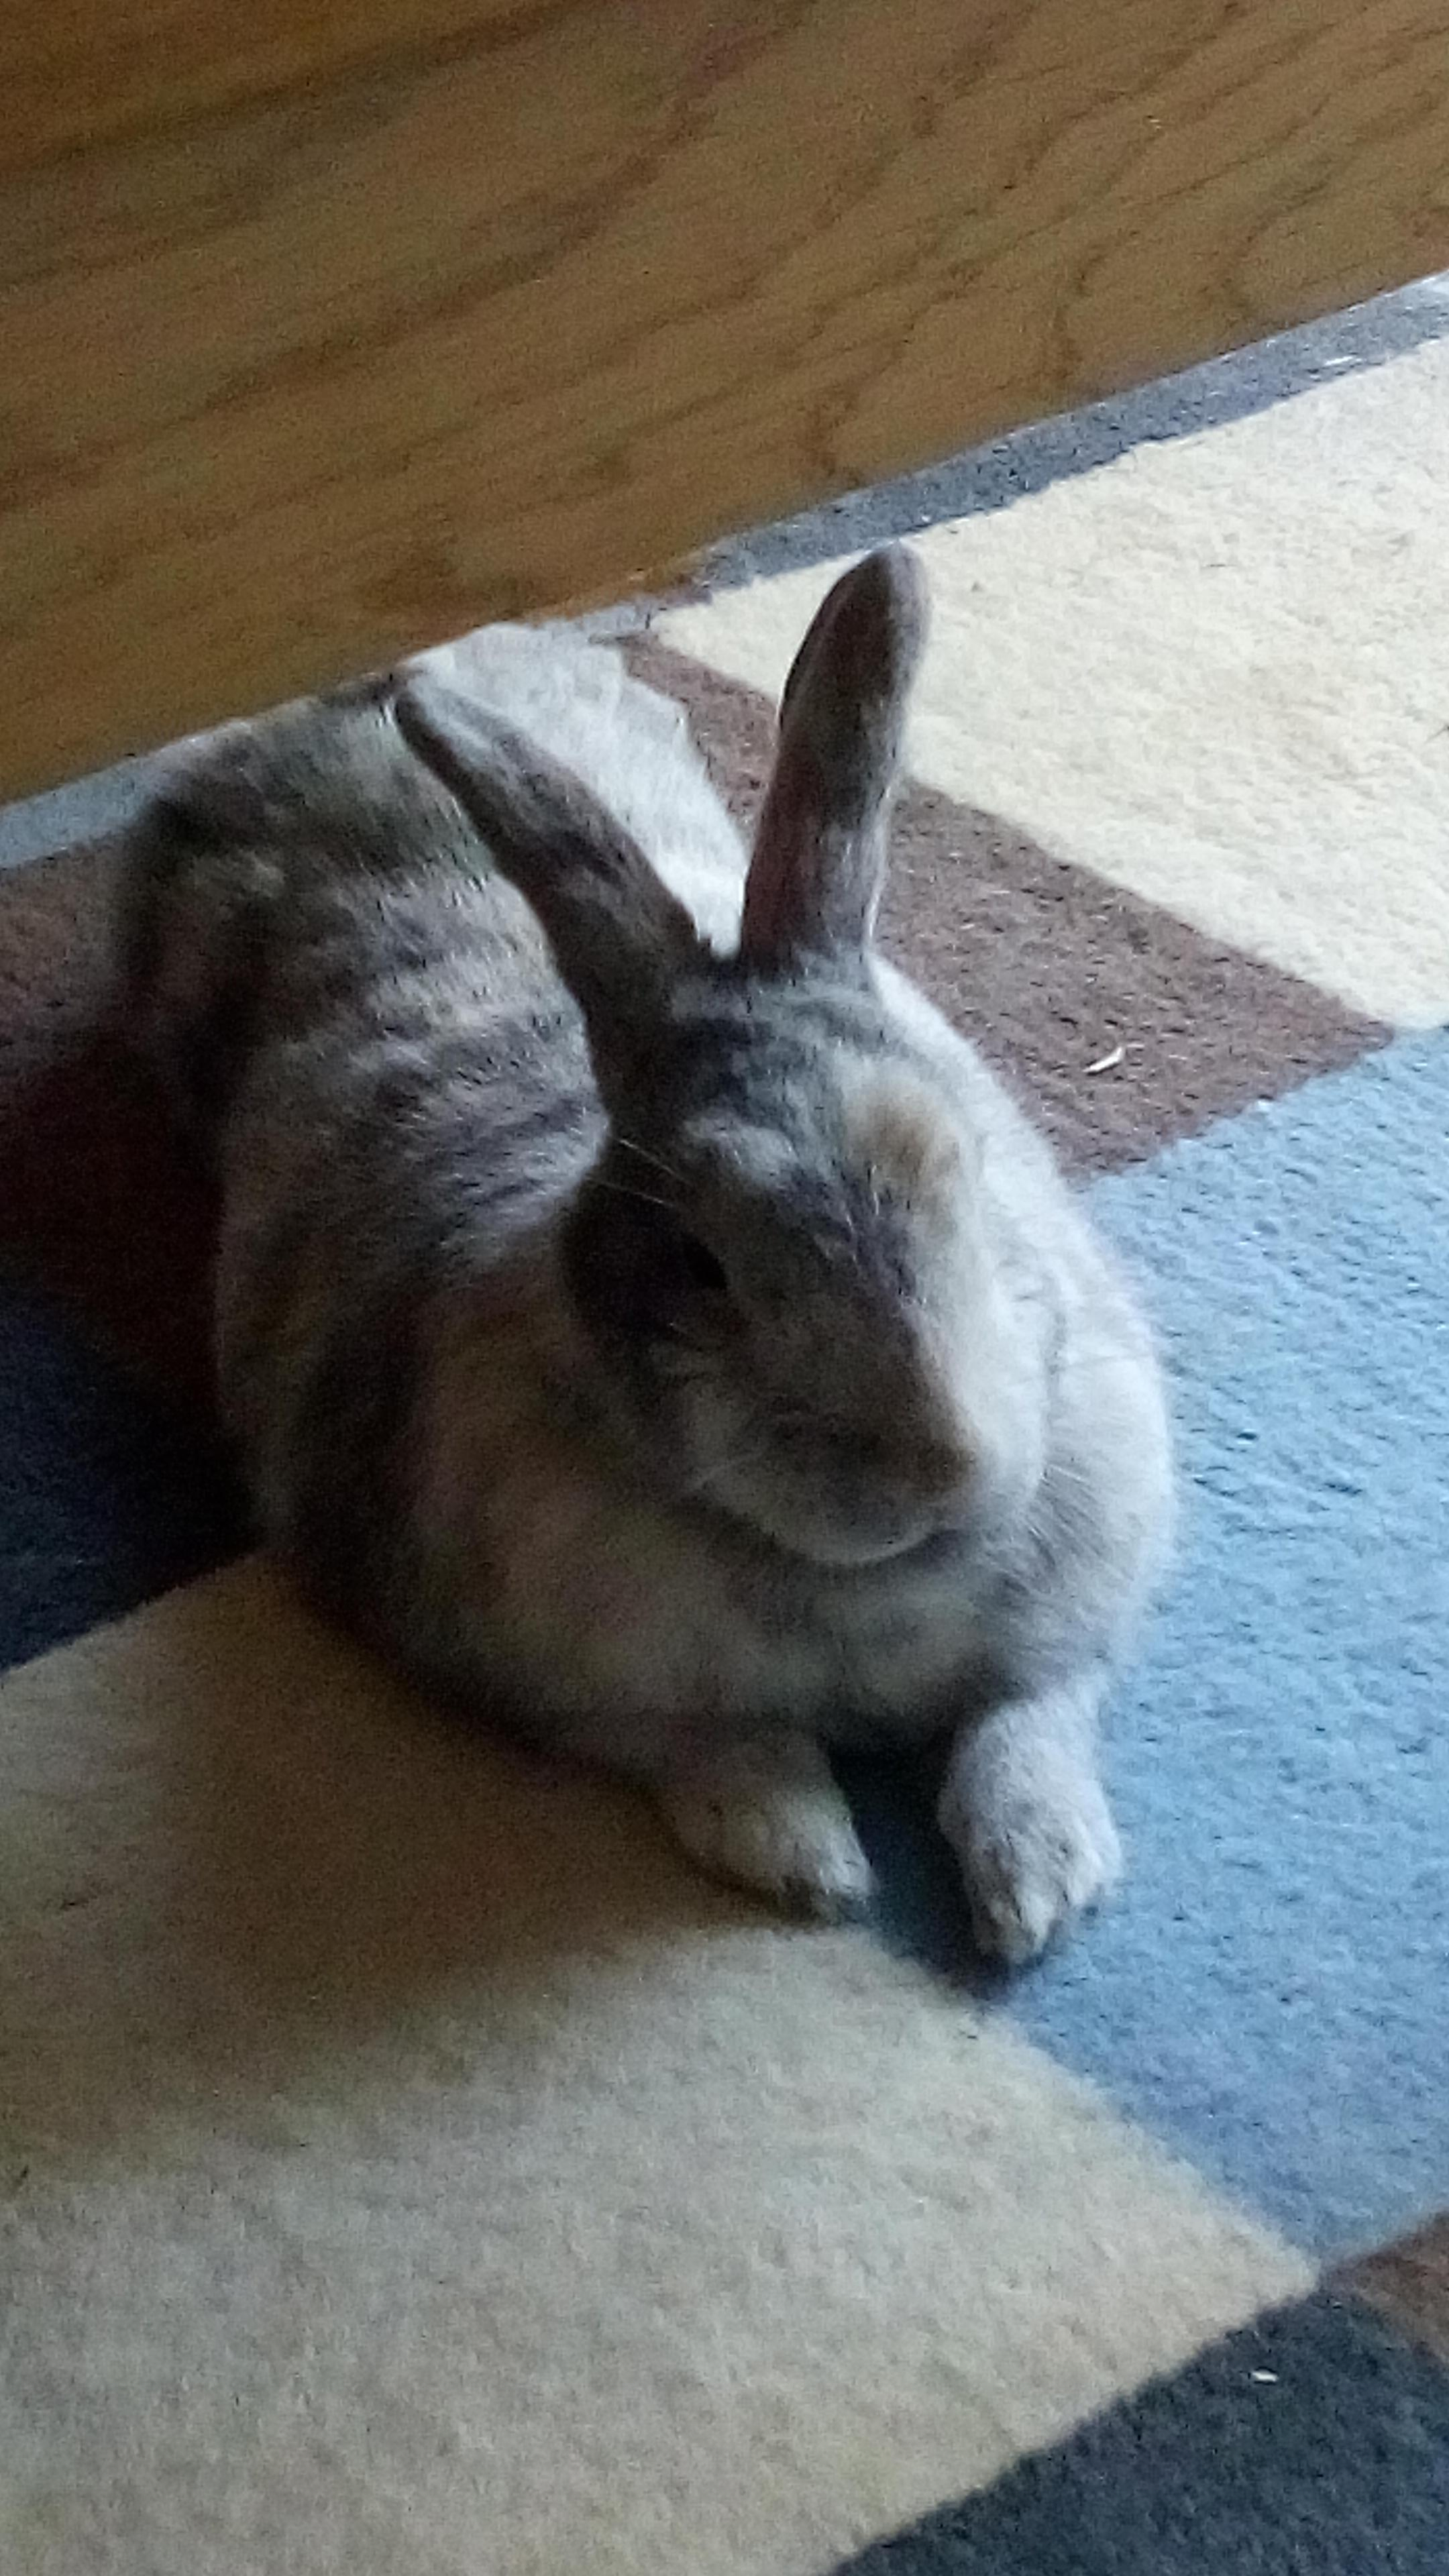bunny: (74, 522, 1215, 1962)
